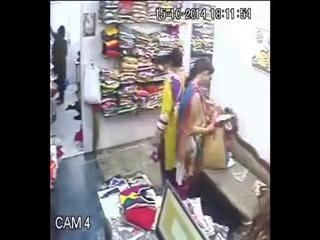shoplifting: (182, 55, 236, 188)
